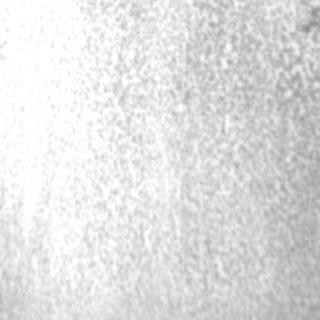pitted_surface: (41, 2, 316, 306)
